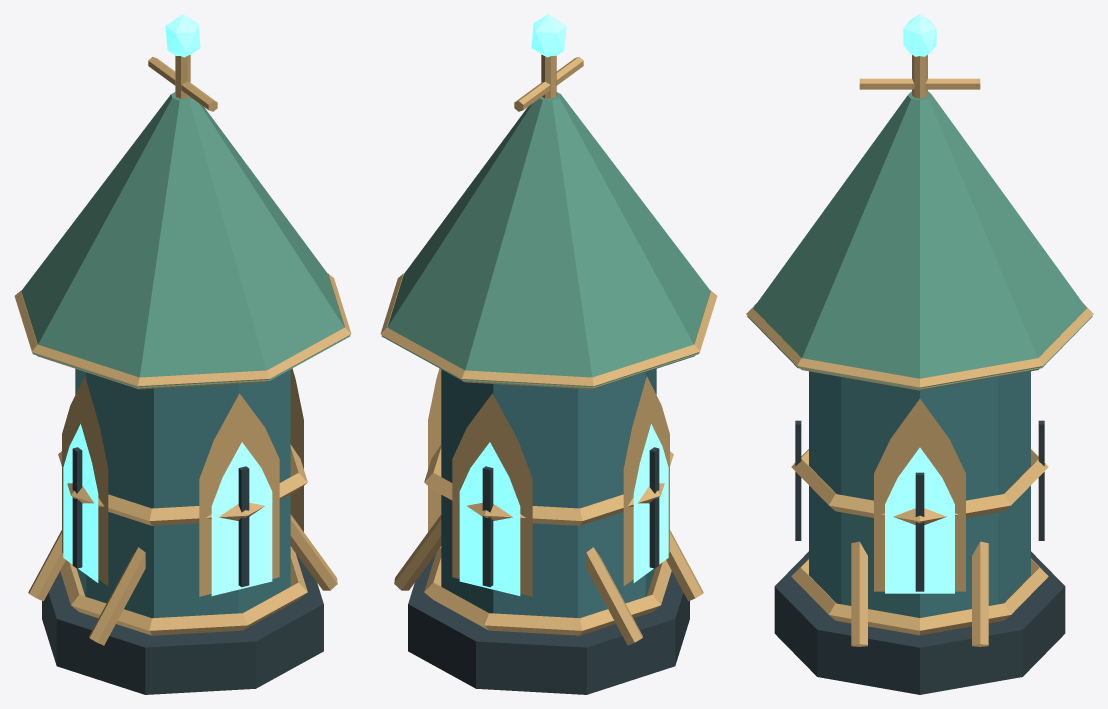
The model's file is growth-tower.glb.
The picture shows the model from 3 angles, left to right: view 1: azimuth 30°, elevation 25°; view 2: azimuth 150°, elevation 25°; view 3: azimuth 270°, elevation 25°; orthographic projection.
Parts seen in each view (by area): view 1: Steep copper signal helm, growth-tower / Brass | growth warm machined fittings, Tall Hanseatic signal chamber, growth-tower / Structure | growth blue-black wrought iron, growth-tower / Lamp | growth luminous mint glass; view 2: Steep copper signal helm, growth-tower / Brass | growth warm machined fittings, Tall Hanseatic signal chamber, growth-tower / Structure | growth blue-black wrought iron, growth-tower / Lamp | growth luminous mint glass; view 3: Steep copper signal helm, Tall Hanseatic signal chamber, growth-tower / Brass | growth warm machined fittings, growth-tower / Structure | growth blue-black wrought iron, growth-tower / Lamp | growth luminous mint glass.
Boxes of the visible parts, left/top/right/bottom form: Steep copper signal helm: left=21, top=92, right=350, bottom=388; growth-tower / Brass | growth warm machined fittings: left=14, top=54, right=351, bottom=645; Tall Hanseatic signal chamber: left=75, top=369, right=290, bottom=618; growth-tower / Structure | growth blue-black wrought iron: left=42, top=447, right=323, bottom=694; growth-tower / Lamp | growth luminous mint glass: left=63, top=14, right=272, bottom=595; Steep copper signal helm: left=381, top=92, right=710, bottom=388; growth-tower / Brass | growth warm machined fittings: left=380, top=54, right=717, bottom=645; Tall Hanseatic signal chamber: left=441, top=369, right=656, bottom=618; growth-tower / Structure | growth blue-black wrought iron: left=408, top=447, right=689, bottom=694; growth-tower / Lamp | growth luminous mint glass: left=459, top=14, right=668, bottom=595; Steep copper signal helm: left=747, top=91, right=1092, bottom=389; Tall Hanseatic signal chamber: left=809, top=371, right=1030, bottom=617; growth-tower / Brass | growth warm machined fittings: left=746, top=55, right=1093, bottom=646; growth-tower / Structure | growth blue-black wrought iron: left=774, top=420, right=1065, bottom=694; growth-tower / Lamp | growth luminous mint glass: left=885, top=14, right=954, bottom=593.
Size of the model in its own units: 1.27 by 2.49 by 1.27.
